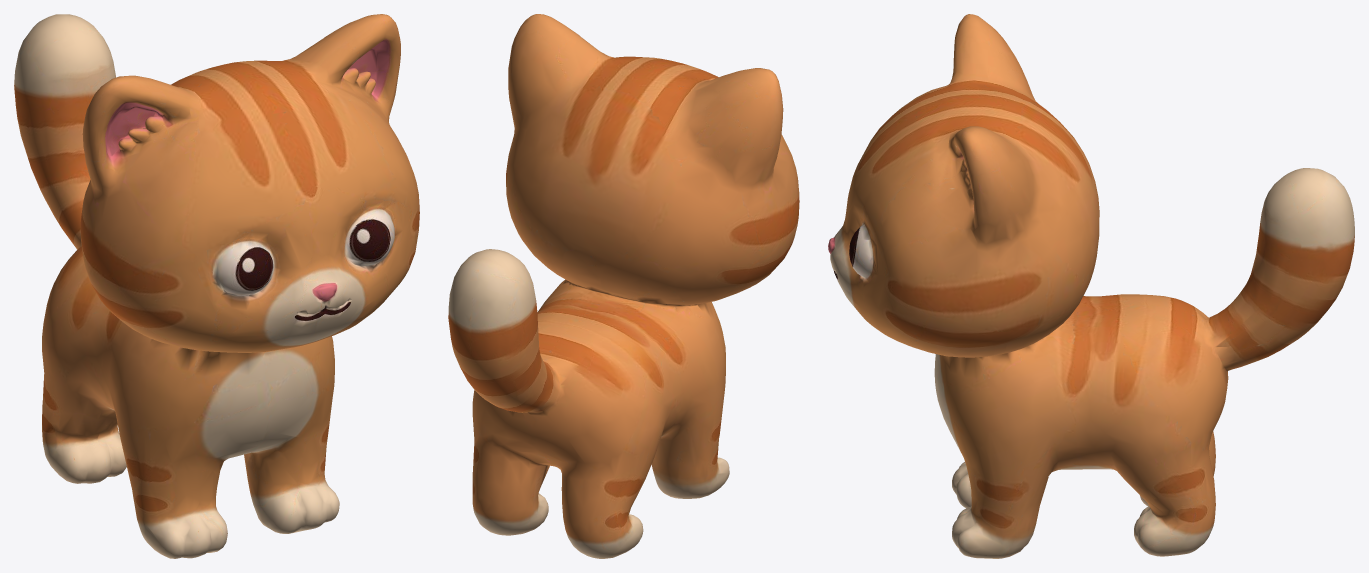
File: kit-nugget.glb
The picture shows the model from 3 angles, left to right: view 1: azimuth 30°, elevation 25°; view 2: azimuth 150°, elevation 25°; view 3: azimuth 270°, elevation 25°; orthographic projection. The views are drawn at different scales.
Size of the model in its own units: 1.18 by 1.78 by 1.9.
1 material, 1 textured.
